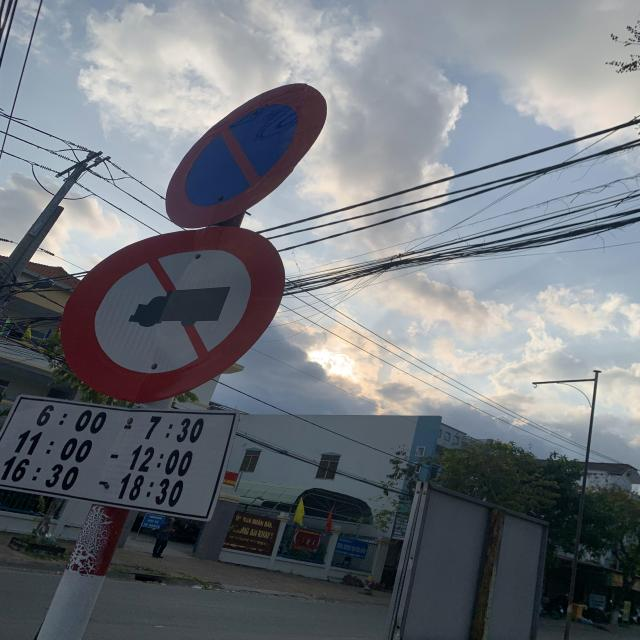Cam_Dau_Xe: (164, 82, 326, 228)
Cam_Xe_Tai: (58, 227, 290, 408)
